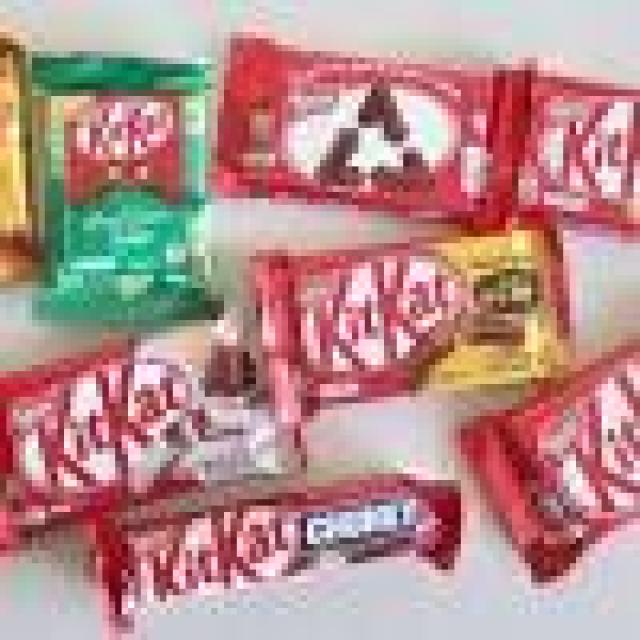kitkat: (0, 291, 318, 547), (102, 477, 469, 620), (461, 333, 640, 576)
